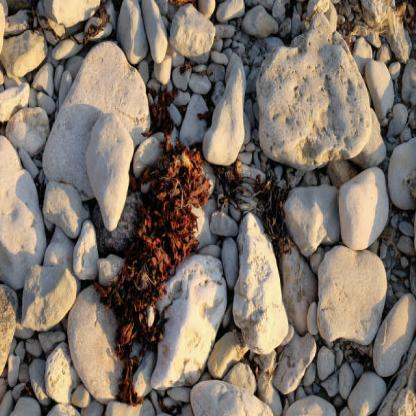Sedimentary_Limestone: (38, 47, 154, 208), (258, 21, 380, 173), (231, 226, 290, 355), (313, 248, 388, 344), (81, 114, 132, 243)
